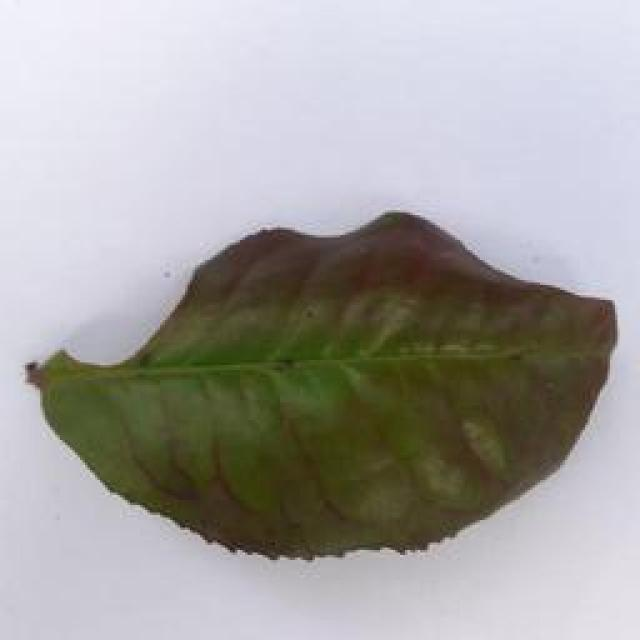Red Leaf Spot: (12, 205, 637, 584)
